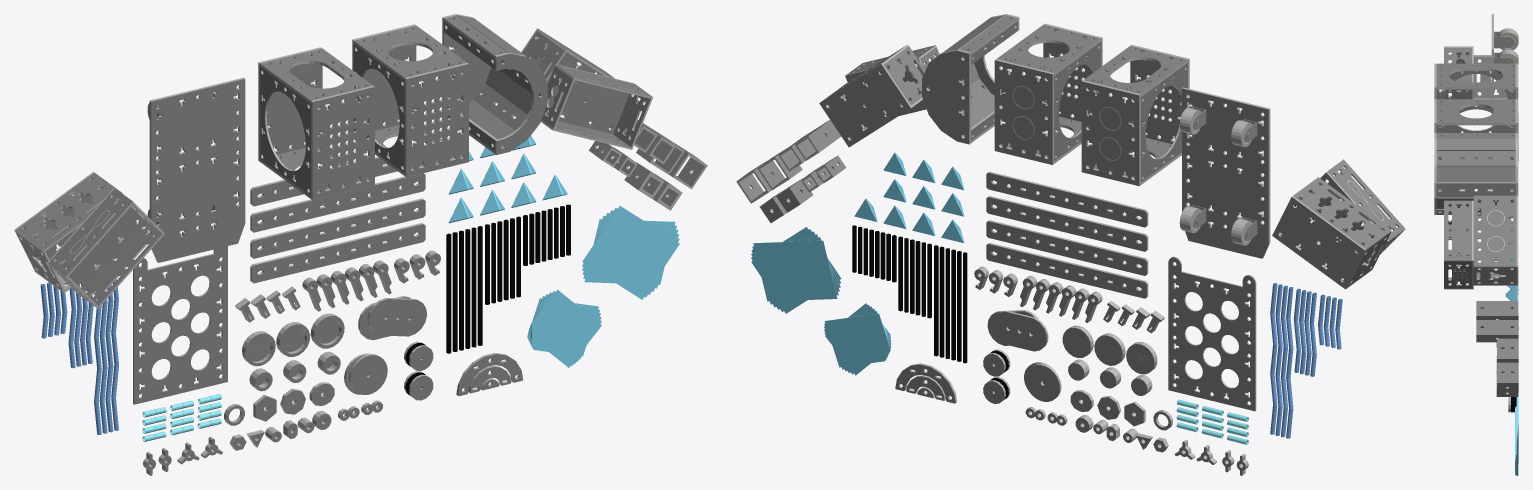
The model's file is parts.glb.
The picture shows the model from 3 angles, left to right: view 1: azimuth 30°, elevation 25°; view 2: azimuth 150°, elevation 25°; view 3: azimuth 270°, elevation 25°; orthographic projection. The views are drawn at different scales.
Visible parts, largest first — view 1: Body1 (×34), Body3, Body2, Body13, Body12, Body15, Body16, Body100, Body86, Body20, Body46, Body35 (+3 smaller); view 2: Body1 (×27), Body3, Body2, Body108, Body109, Body17, Body100, Body16, Body15, Body18, Body86; view 3: Body1 (×26), Body3, Body2, Body87, Body17, Body86, Body18, Body136, Body84.
Part boxes in pixels (x1,y1,x2,y2): Body1 (×34): (14, 14, 679, 433); Body3: (353, 25, 466, 80); Body2: (260, 48, 372, 103); Body13: (367, 298, 426, 336); Body12: (349, 354, 387, 394); Body15: (310, 313, 344, 348); Body16: (242, 331, 275, 366); Body100: (276, 322, 310, 356); Body86: (668, 143, 707, 189); Body20: (624, 162, 664, 199); Body46: (471, 227, 476, 347); Body35: (446, 233, 451, 353); Body1 (×27): (753, 15, 1405, 438); Body3: (997, 24, 1101, 75); Body2: (1083, 46, 1187, 96); Body108: (992, 310, 1048, 351); Body109: (1025, 364, 1061, 401); Body17: (795, 120, 841, 160); Body100: (1094, 333, 1125, 365); Body16: (1126, 342, 1157, 374); Body15: (1062, 325, 1093, 357); Body18: (757, 148, 802, 190); Body86: (736, 161, 772, 203); Body1 (×26): (1434, 14, 1518, 289); Body3: (1436, 99, 1515, 125); Body2: (1436, 63, 1515, 89); Body87: (1476, 320, 1518, 342); Body17: (1476, 301, 1518, 319); Body86: (1497, 362, 1518, 392); Body18: (1497, 338, 1518, 362); Body136: (1505, 285, 1517, 300); Body84: (1496, 375, 1518, 396).
Bounding box in the file's own units: 4.35 × 2.37 × 0.604.
